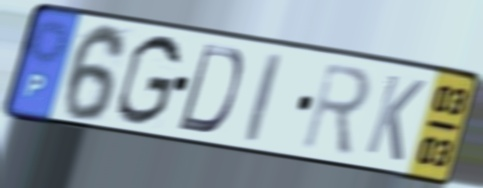6: (59, 20, 131, 124)
D: (174, 40, 247, 136)
G: (112, 32, 184, 129)
I: (242, 49, 285, 146)
K: (361, 70, 429, 165)
R: (299, 58, 374, 157)
